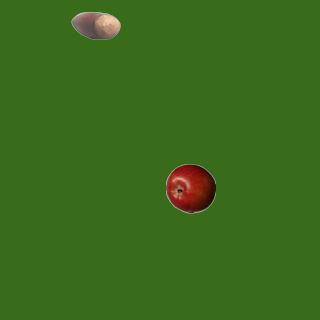Apple Braeburn: (165, 163, 215, 213)
Hazelnut: (70, 0, 120, 50)
